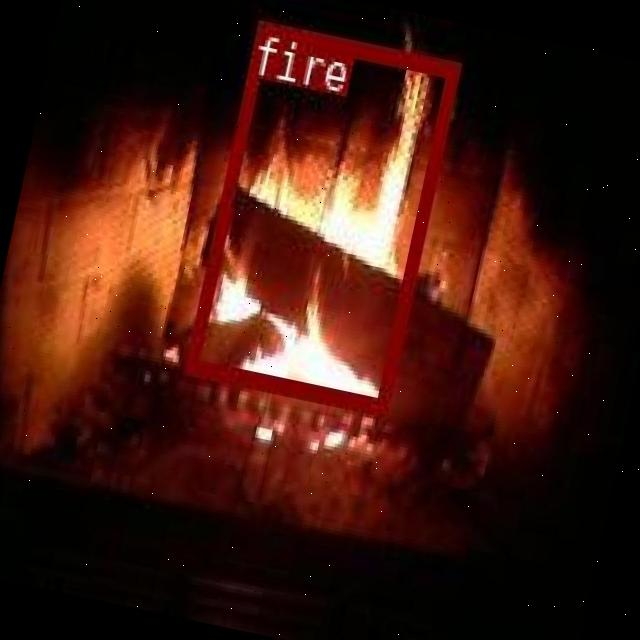fire: (183, 18, 458, 412)
